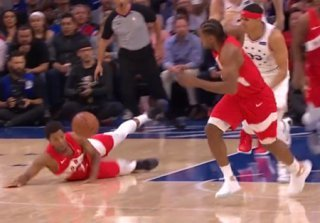10+: (1, 1, 319, 195)
down: (13, 101, 163, 195)
